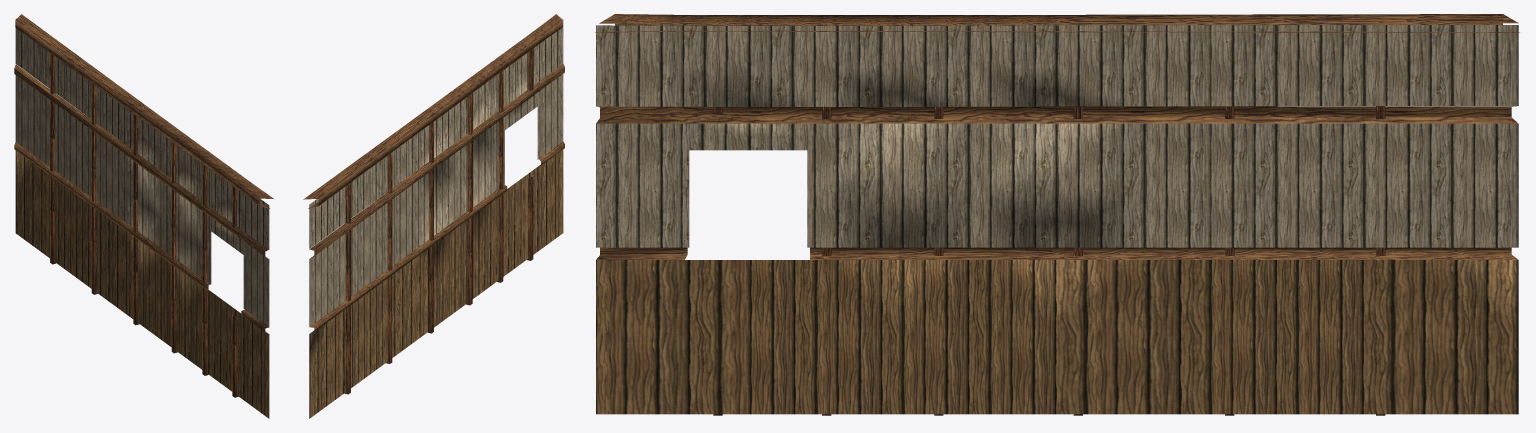
File: LAKETOWN_WAREHOUSE2_PS_WH2_SIDEWALL7746__GX.fbx
3 views of the same model, side by side, from view 1: azimuth 30°, elevation 25°; view 2: azimuth 150°, elevation 25°; view 3: azimuth 270°, elevation 25° (orthographic). The views are drawn at different scales.
Parts seen in each view (by area): view 1: LAKETOWN_WAREHOUSE2_PS_WH2_SIDEWALL7746__GX; view 2: LAKETOWN_WAREHOUSE2_PS_WH2_SIDEWALL7746__GX; view 3: LAKETOWN_WAREHOUSE2_PS_WH2_SIDEWALL7746__GX.
Boxes of the visible parts, x1,y1,x2,y2 form: LAKETOWN_WAREHOUSE2_PS_WH2_SIDEWALL7746__GX: [14, 14, 274, 418]; LAKETOWN_WAREHOUSE2_PS_WH2_SIDEWALL7746__GX: [303, 14, 564, 418]; LAKETOWN_WAREHOUSE2_PS_WH2_SIDEWALL7746__GX: [595, 14, 1519, 415].
Size of the model in its own units: 5834 by 114126 by 240302.
5 materials, 5 textured.
